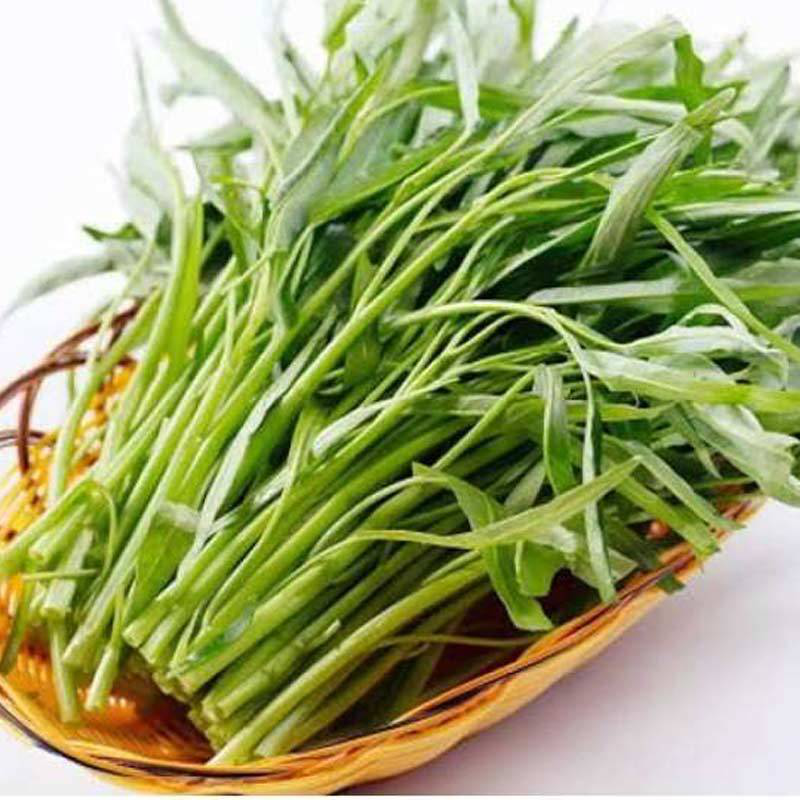Kangkung: (101, 24, 760, 698)
